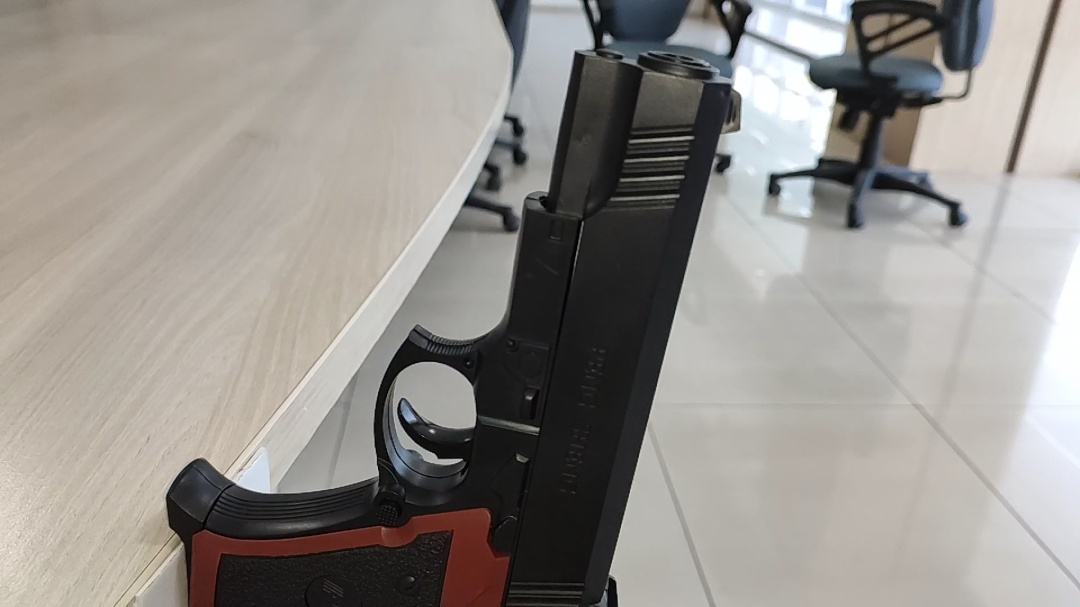gun: (164, 46, 736, 607)
